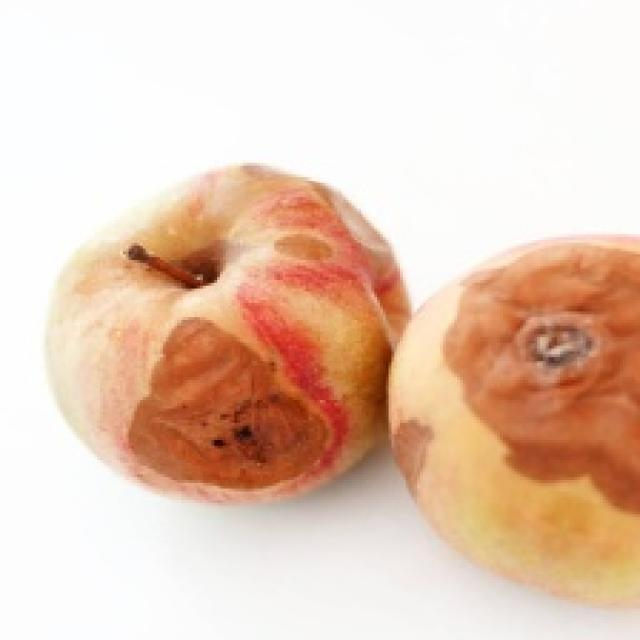rotten_apple: (42, 169, 385, 500), (388, 237, 640, 608)
